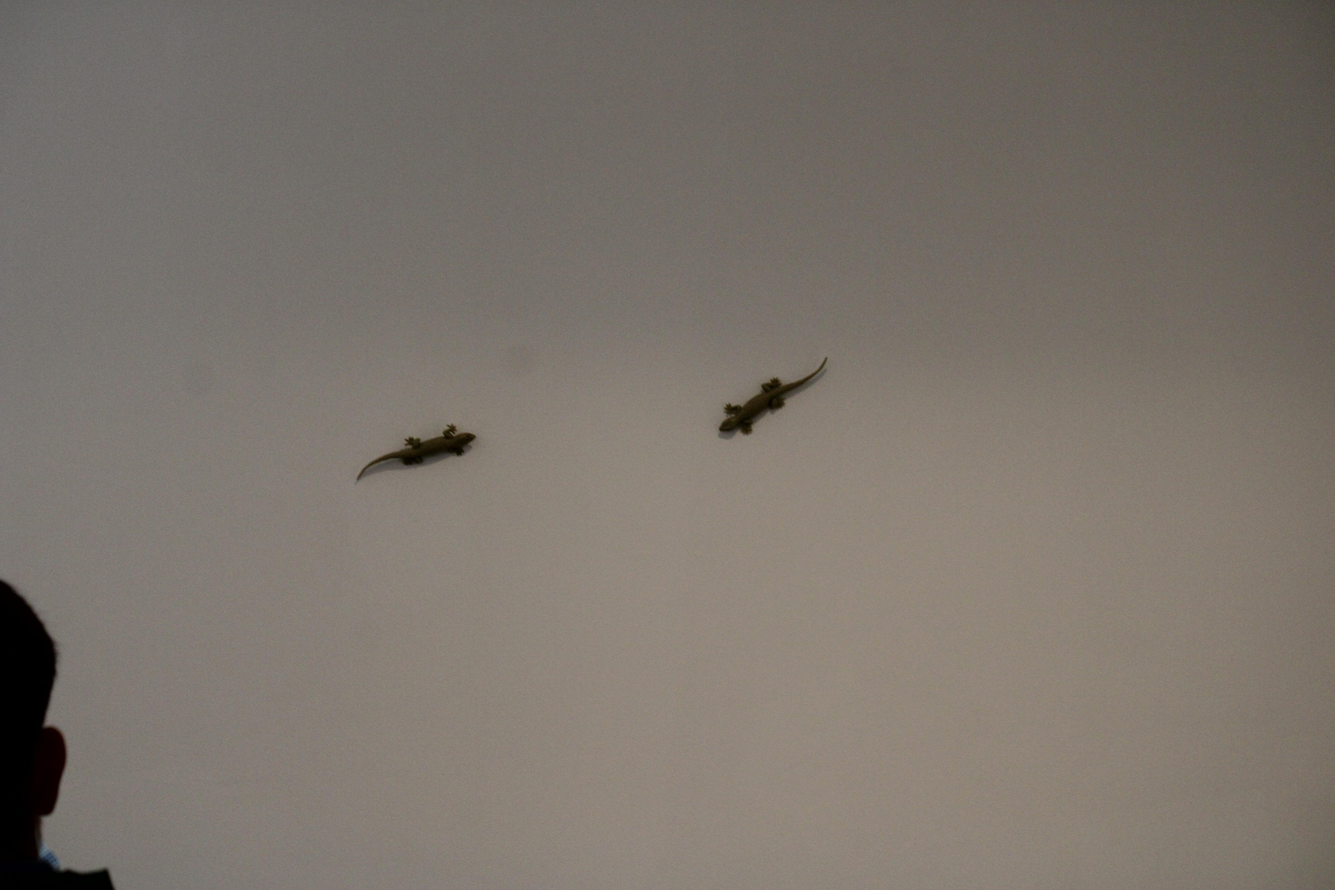lizard: (356, 419, 484, 496), (708, 363, 823, 439)
